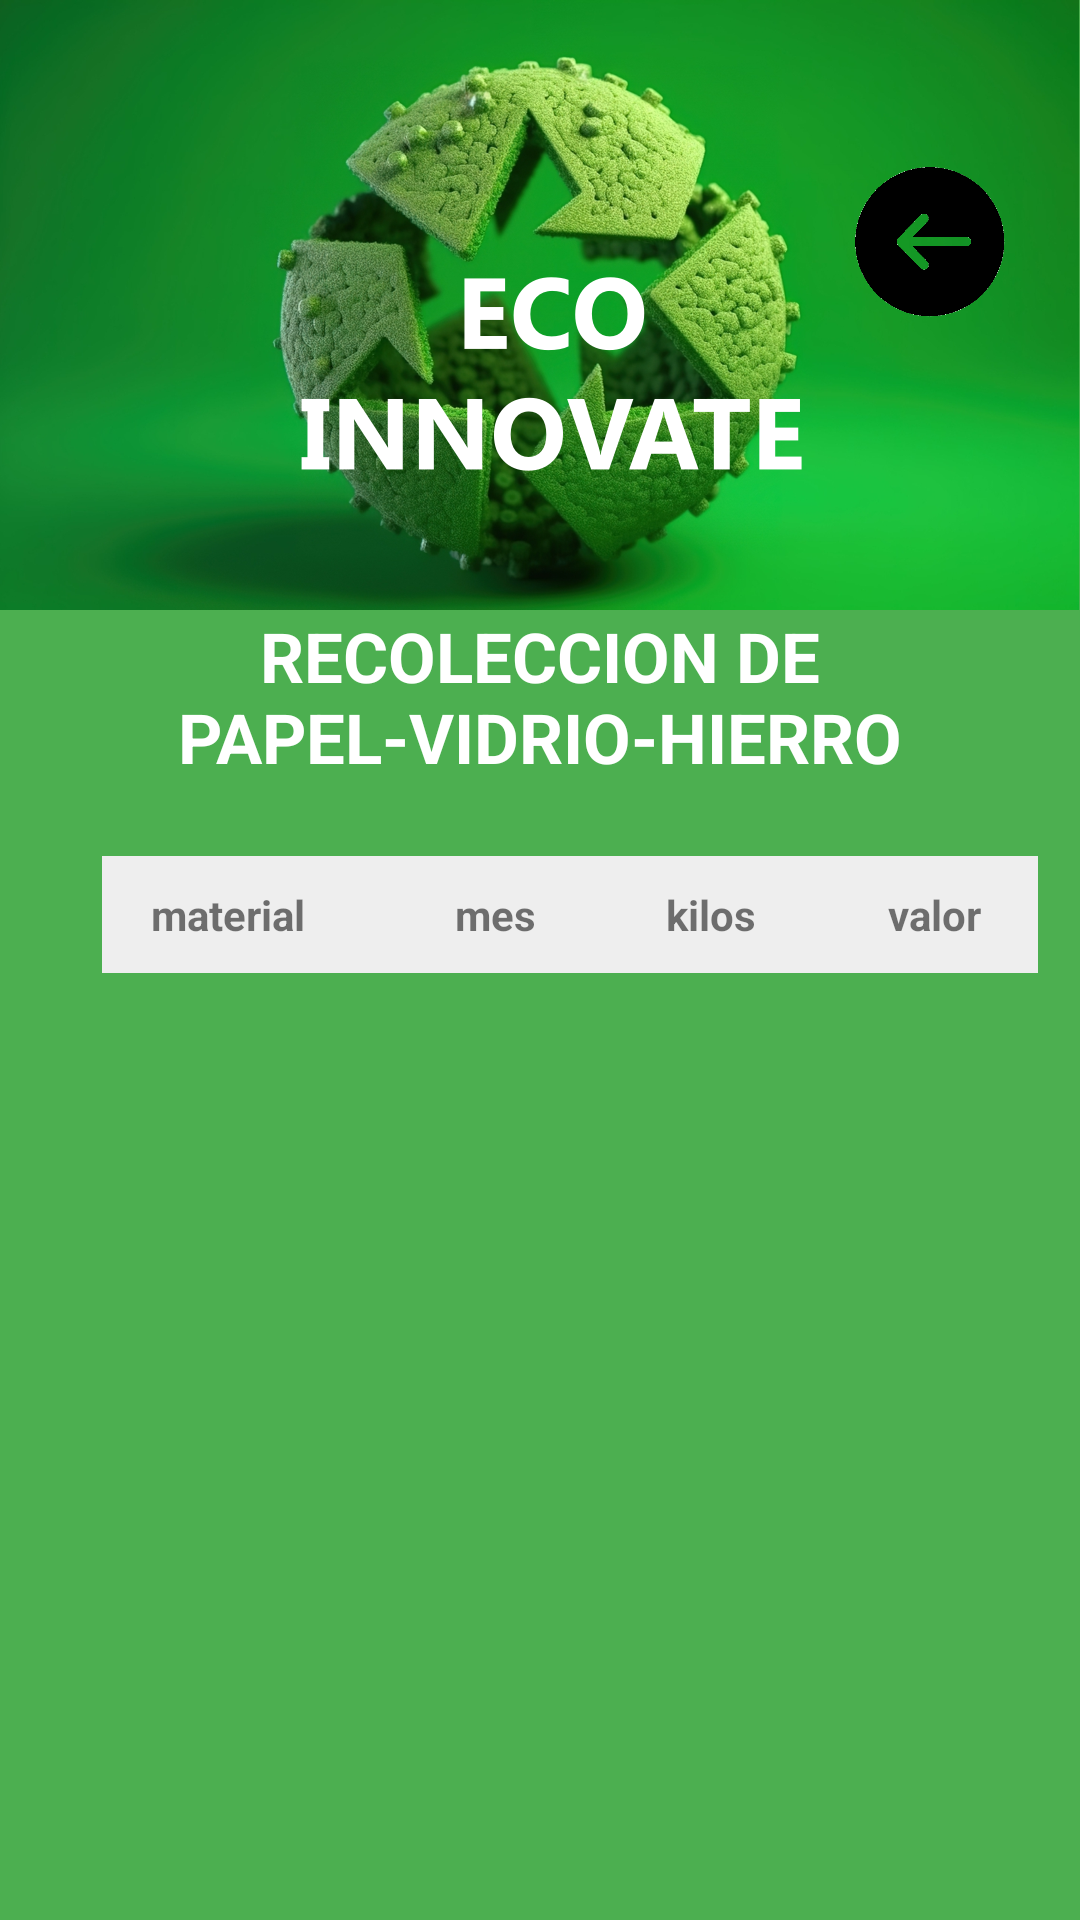

Screen size 1080 x 1920. Icon name, then its box in pixels as rect(x1, y1, x2, y2):
flechanegro: rect(855, 167, 1005, 400)
